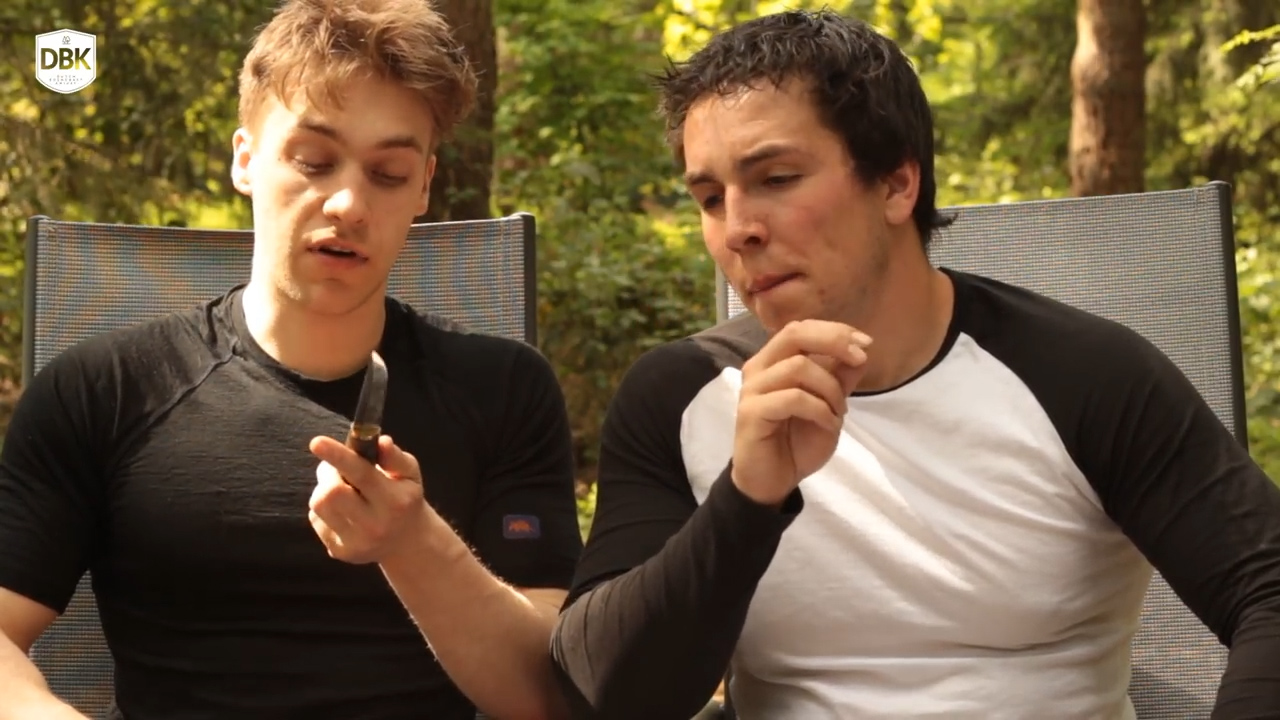knife: (298, 334, 418, 541)
